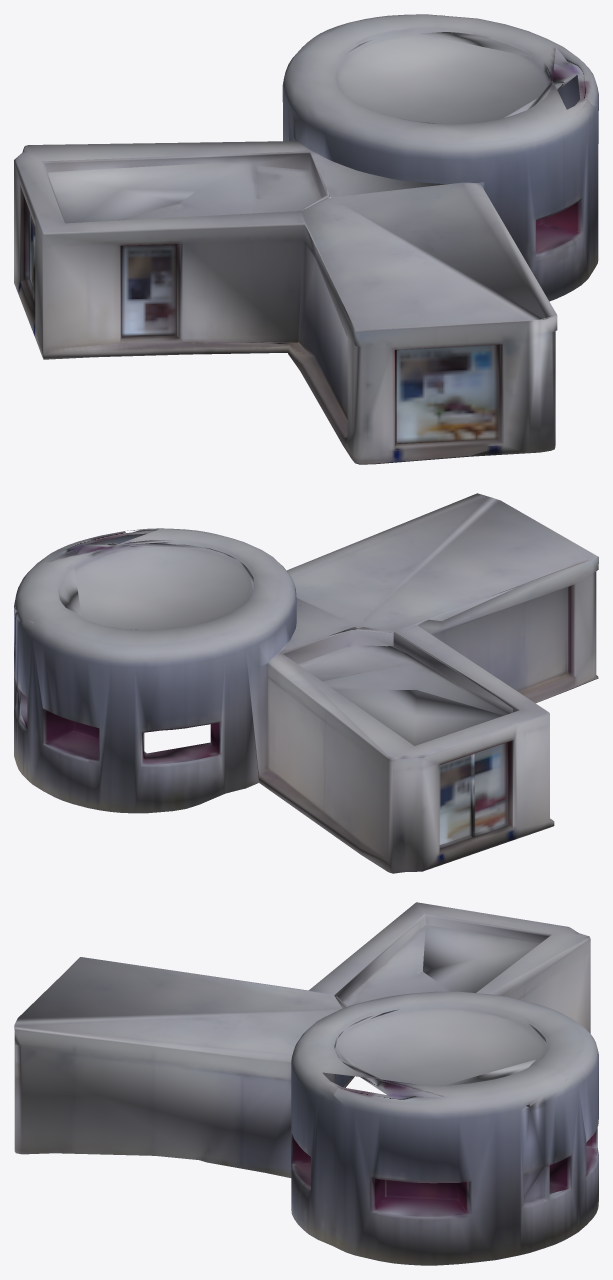
3 renders of one model, top to bottom at view 1: azimuth 30°, elevation 25°; view 2: azimuth 150°, elevation 25°; view 3: azimuth 270°, elevation 25°, orthographic. The views are drawn at different scales.
Parts seen in each view (by area): view 1: material; view 2: material; view 3: material.
Boxes of the visible parts, x1,y1,x2,y2 form: material: (14, 14, 598, 464); material: (14, 493, 598, 873); material: (14, 902, 598, 1265).
Size of the model in its own units: 1.89 by 0.58 by 1.9.
1 material, 1 textured.
